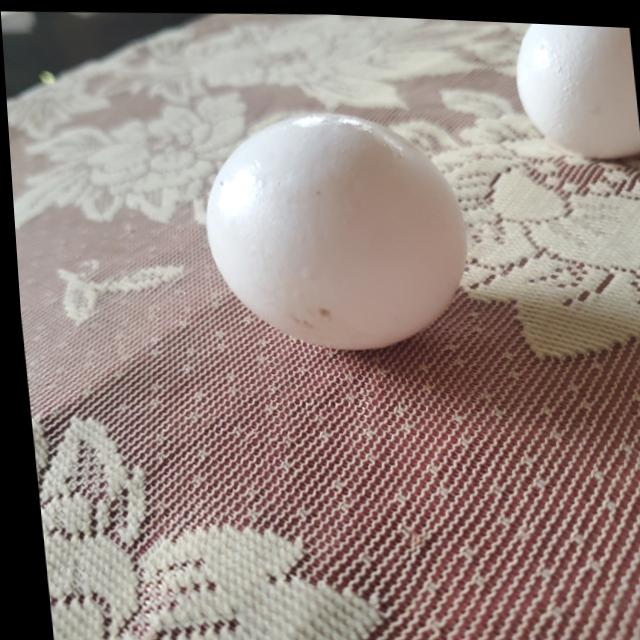egg: (192, 103, 474, 356), (508, 18, 639, 153)
